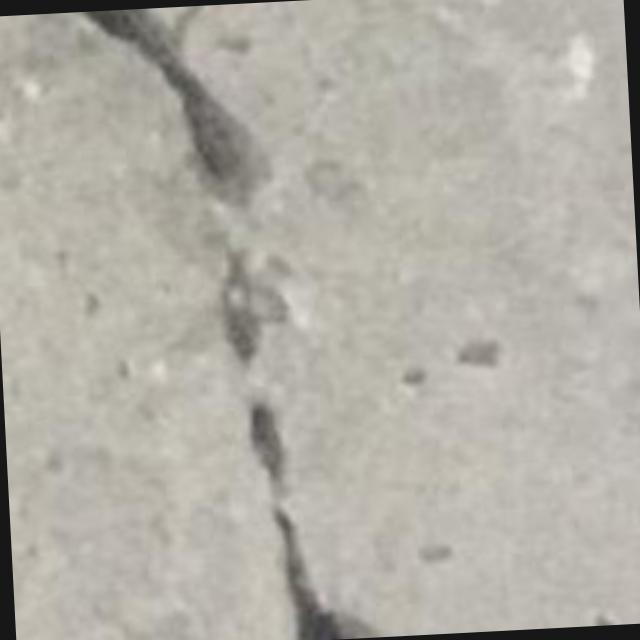crack: (248, 395, 368, 639)
